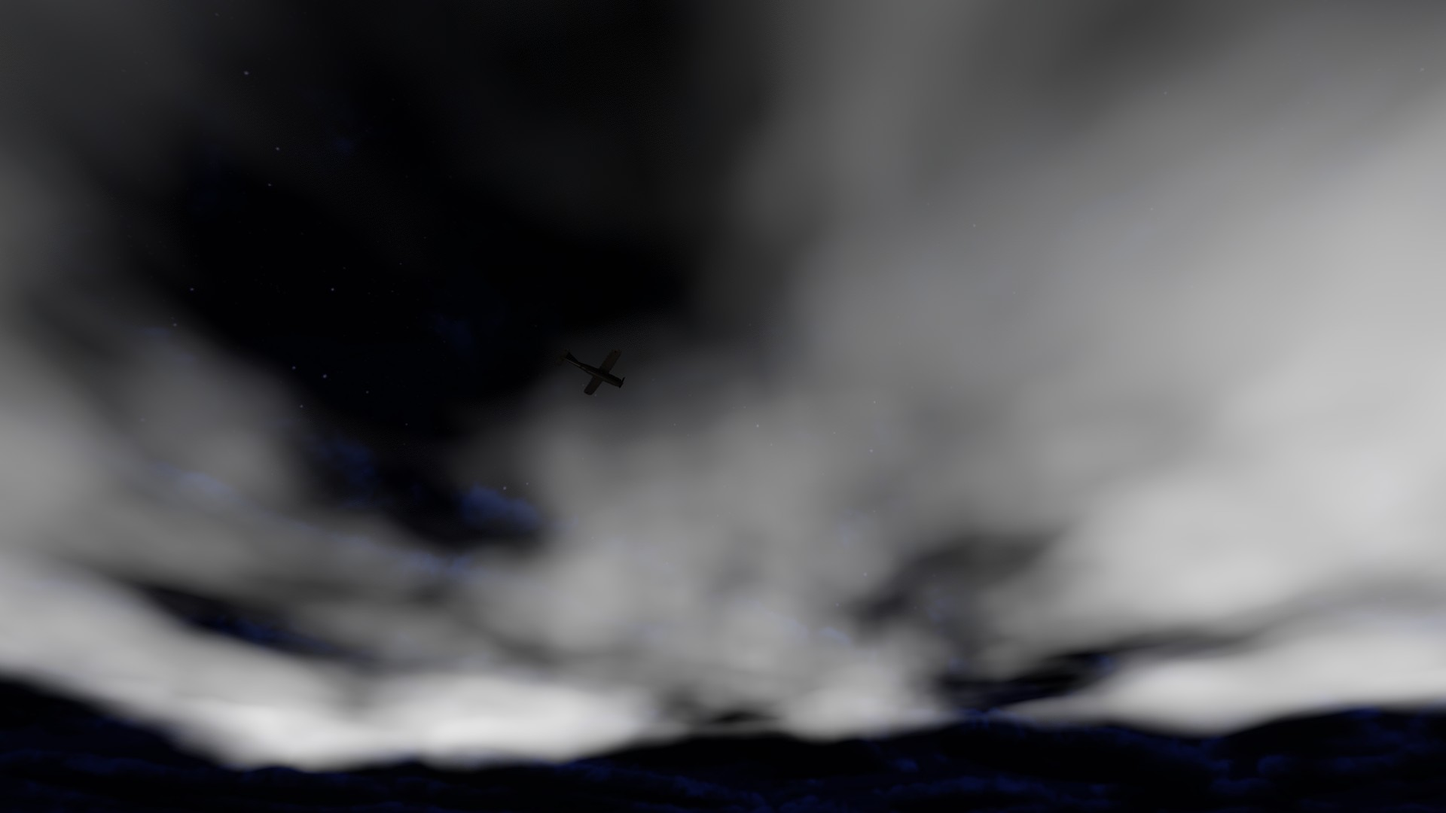drone_other: (555, 347, 625, 396)
